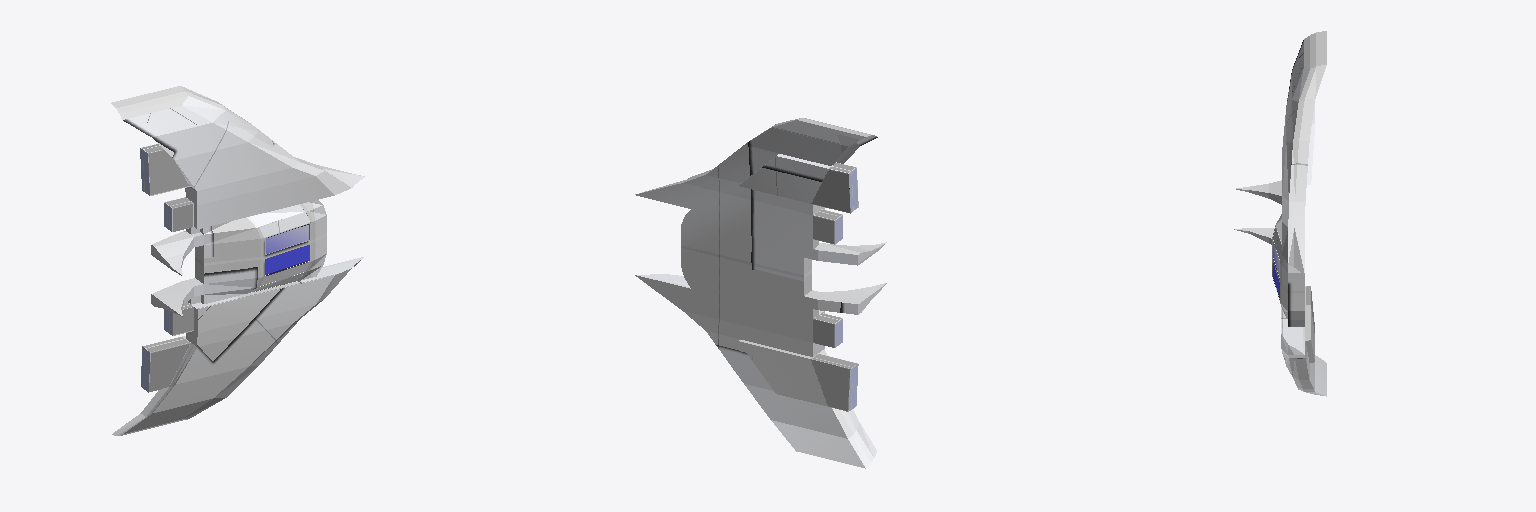
3 views of the same model, side by side, from view 1: azimuth 30°, elevation 25°; view 2: azimuth 150°, elevation 25°; view 3: azimuth 270°, elevation 25° (orthographic).
Visible parts, largest first — view 1: Cube.001; view 2: Cube.001; view 3: Cube.001.
Boxes of the visible parts, x1,y1,x2,y2 form: Cube.001: [111, 86, 364, 435]; Cube.001: [635, 118, 886, 468]; Cube.001: [1234, 31, 1326, 396].
Bounding box in the file's own units: 6.57 × 8.54 × 2.19.
2 materials, 1 textured.